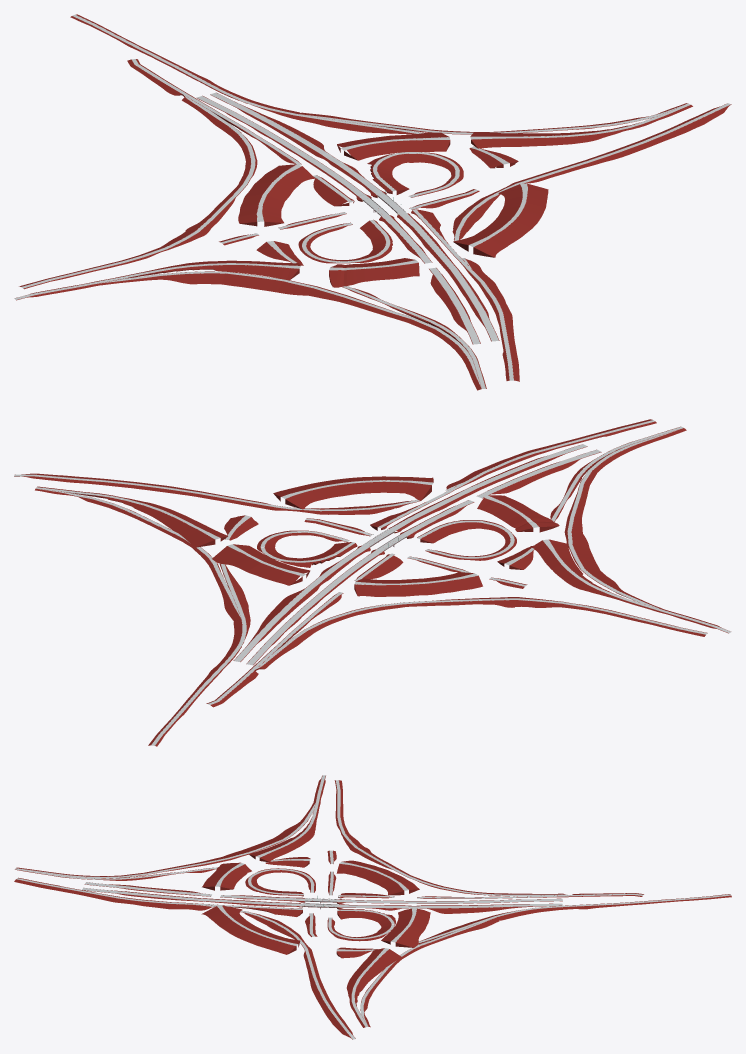
Rendered from br_h39_henday_yellowhead_1.gltf.
3 renders of one model, top to bottom at view 1: azimuth 30°, elevation 25°; view 2: azimuth 150°, elevation 25°; view 3: azimuth 270°, elevation 25°, orthographic. The views are drawn at different scales.
Visible parts, largest first — view 1: br_h39_henday_yellowhead_1; view 2: br_h39_henday_yellowhead_1; view 3: br_h39_henday_yellowhead_1.
Boxes of the visible parts, box(x1,y1,x2,y2) form: br_h39_henday_yellowhead_1: box(14, 14, 731, 390); br_h39_henday_yellowhead_1: box(14, 419, 731, 746); br_h39_henday_yellowhead_1: box(14, 775, 731, 1039).
Size of the model in its own units: 1665 by 28.49 by 1904.
